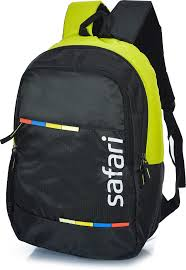backpack: (0, 0, 185, 260)
